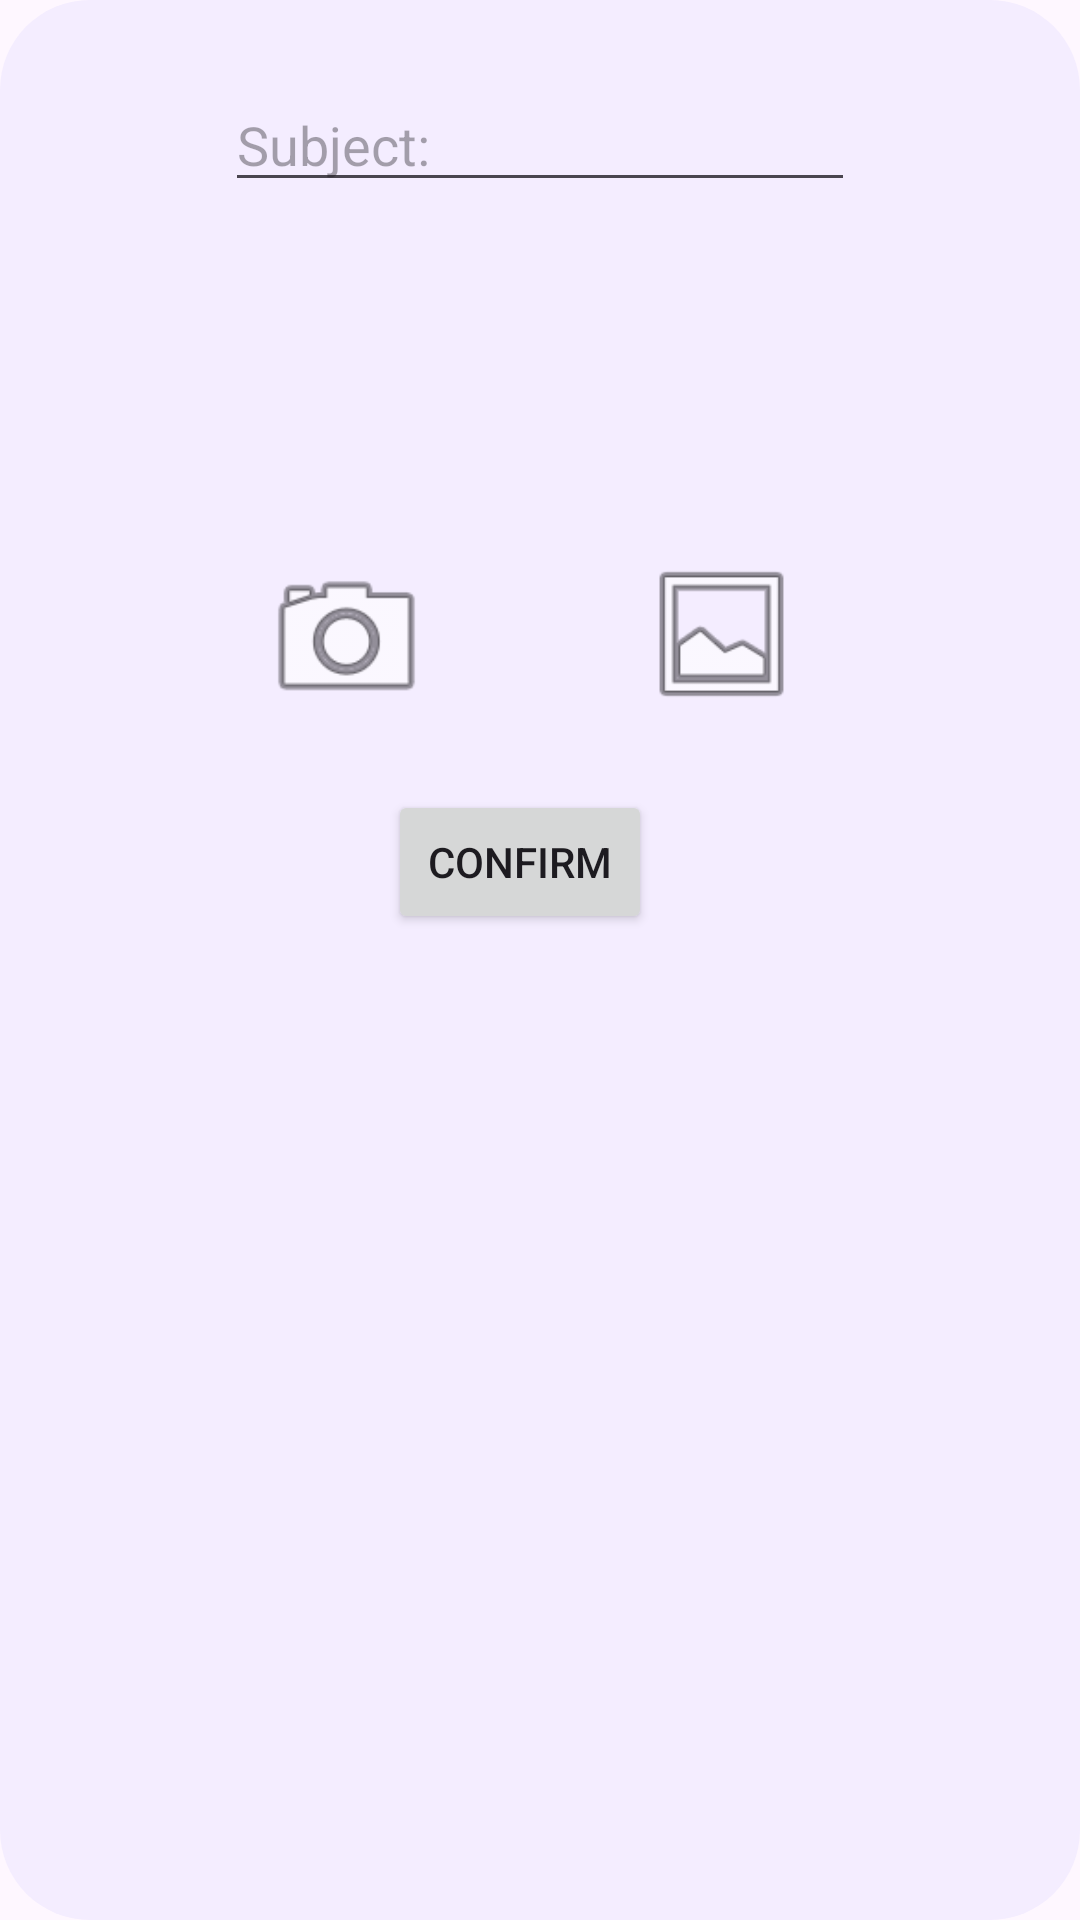

Named icons in this screenshot (1080*1920) and their bounding boxes, detection(x1, y1, x2, y2):
camera: detection(278, 581, 415, 691)
gallery: detection(659, 571, 784, 697)
